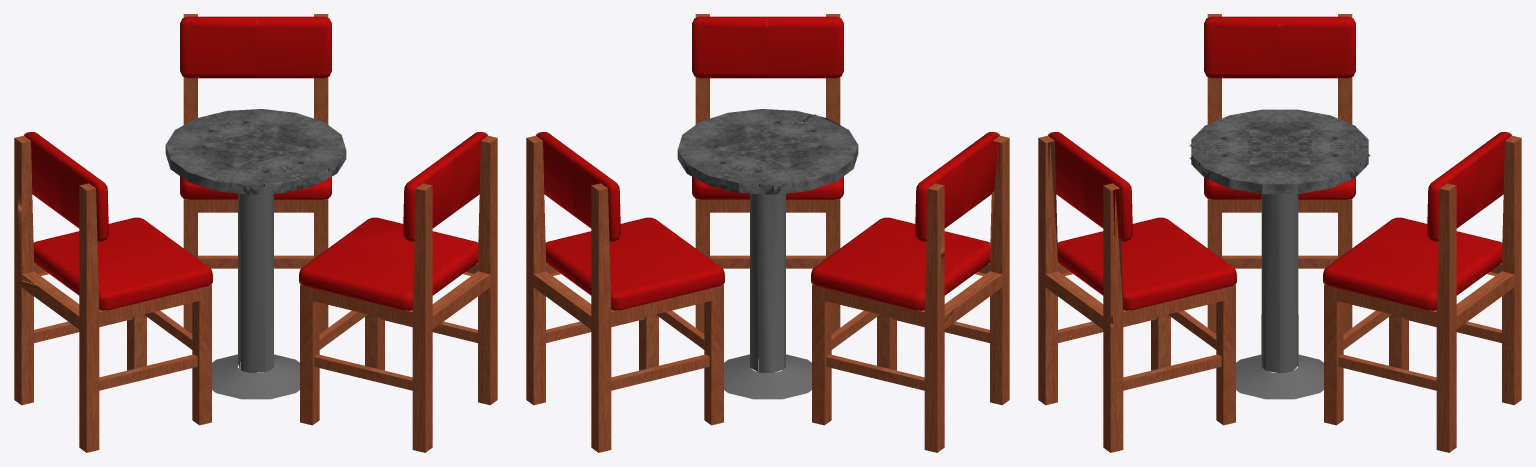
File: kt_booths_02.fbx
The picture shows the model from 3 angles, left to right: view 1: azimuth 30°, elevation 25°; view 2: azimuth 150°, elevation 25°; view 3: azimuth 270°, elevation 25°; orthographic projection.
Parts seen in each view (by area): view 1: kt_booths_02_LOD0; view 2: kt_booths_02_LOD0; view 3: kt_booths_02_LOD0.
Boxes of the visible parts, bbox=[...] form: kt_booths_02_LOD0: bbox=[14, 14, 497, 452]; kt_booths_02_LOD0: bbox=[526, 14, 1009, 452]; kt_booths_02_LOD0: bbox=[1038, 14, 1521, 452].
Size of what is drawn, in the model's own units: 1.16 by 0.8105 by 1.34.
1 material, 1 textured.
